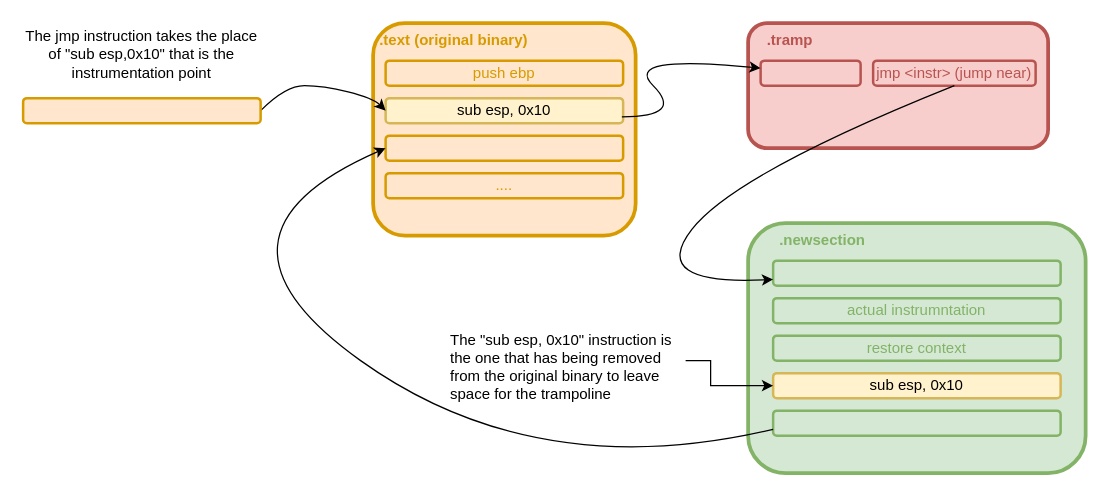
Some shapes in this 1109 by 496 pixel diagram are drawn without their labels. The centre of each missing label's shape, as x and y in pixels:
<trampoline>: the point at 810,72
jmp <instrumentation point+2>: the point at 916,422
jmp <trampoline> (jump short): the point at 141,110
mov [ebp-0x4], eax: the point at 504,147
save context: the point at 916,272
